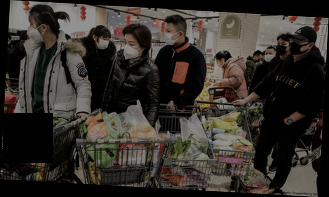with_mask: (123, 38, 144, 61), (290, 36, 311, 57), (27, 20, 46, 43), (163, 26, 181, 46), (275, 40, 291, 55), (96, 35, 110, 50), (264, 51, 276, 64), (215, 59, 225, 68), (255, 56, 262, 64)
